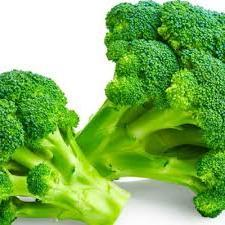broccoli: (74, 0, 224, 219), (0, 68, 130, 224)
